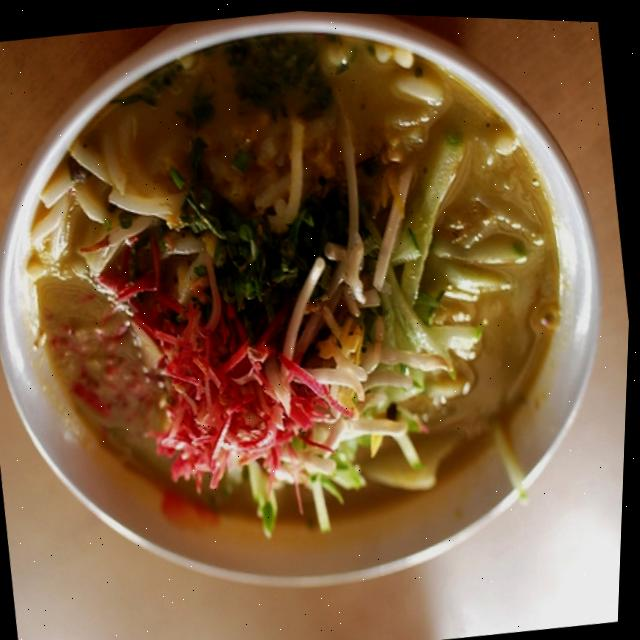面条主食: (0, 0, 640, 638)
